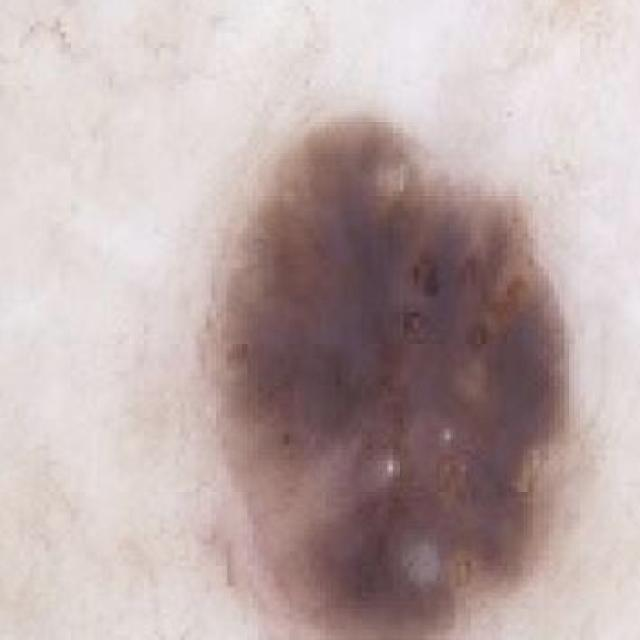BKL: (205, 72, 611, 640)
